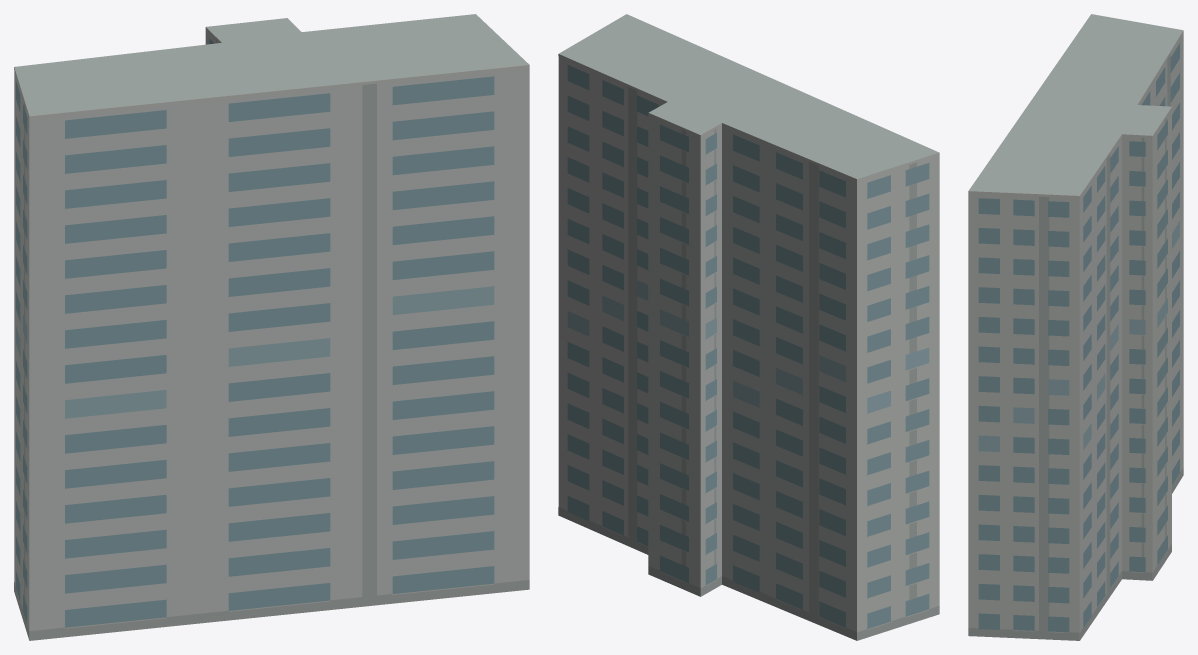
Rendered from residential-bc662e4b-f7db-40ac-9c26-bf8066d887fb.glb.
3 views of the same model, side by side, from view 1: azimuth 30°, elevation 25°; view 2: azimuth 150°, elevation 25°; view 3: azimuth 270°, elevation 25° (orthographic). The views are drawn at different scales.
Visible parts, largest first — view 1: residential-bc662e4b-f7db-40ac-9c26-bf8066d887fb.tmp; view 2: residential-bc662e4b-f7db-40ac-9c26-bf8066d887fb.tmp; view 3: residential-bc662e4b-f7db-40ac-9c26-bf8066d887fb.tmp.
Part boxes in pixels (x1,y1,x2,y2): residential-bc662e4b-f7db-40ac-9c26-bf8066d887fb.tmp: (14, 14, 529, 640); residential-bc662e4b-f7db-40ac-9c26-bf8066d887fb.tmp: (558, 14, 939, 640); residential-bc662e4b-f7db-40ac-9c26-bf8066d887fb.tmp: (968, 14, 1183, 640).
Bounding box in the file's own units: 40.14 × 45.75 × 20.07.
